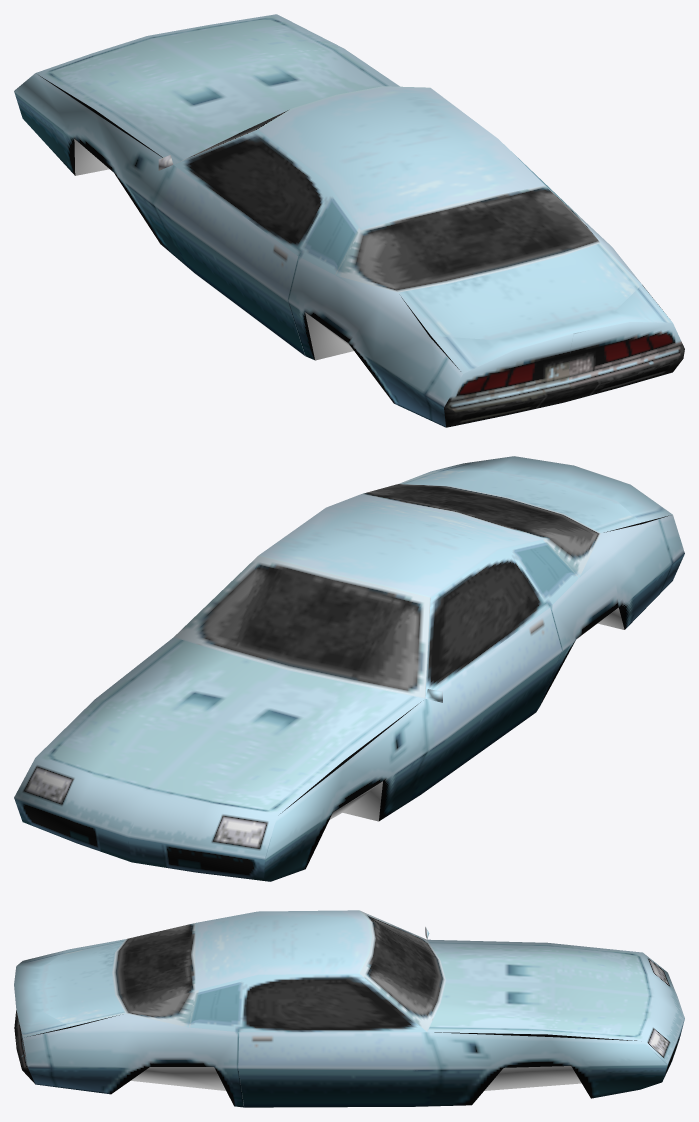
File: Firebird_high.obj
The picture shows the model from 3 angles, top to bottom: view 1: azimuth 30°, elevation 25°; view 2: azimuth 150°, elevation 25°; view 3: azimuth 270°, elevation 25°; orthographic projection. The views are drawn at different scales.
Visible parts, largest first — view 1: firebird_high_lev_model_1; view 2: firebird_high_lev_model_1; view 3: firebird_high_lev_model_1.
Boxes of the visible parts, <box> form: firebird_high_lev_model_1: <box>14,14,684,427</box>; firebird_high_lev_model_1: <box>14,456,684,881</box>; firebird_high_lev_model_1: <box>14,910,684,1107</box>.
Size of the model in its own units: 1.05 by 0.6148 by 2.9.
